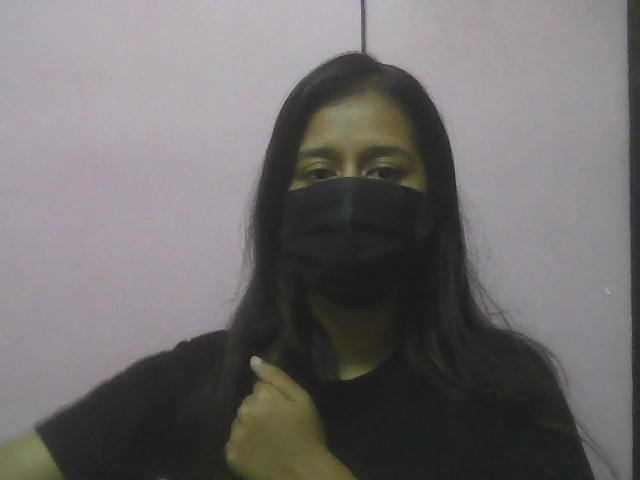Sorry: (205, 348, 354, 472)
